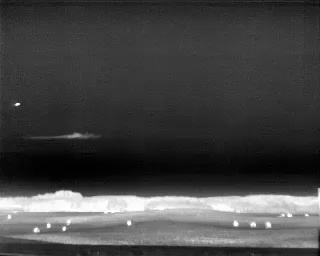BIRD: (12, 100, 22, 109)
